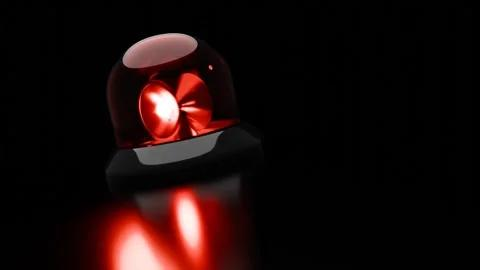controlled_fire: (106, 28, 228, 137)
